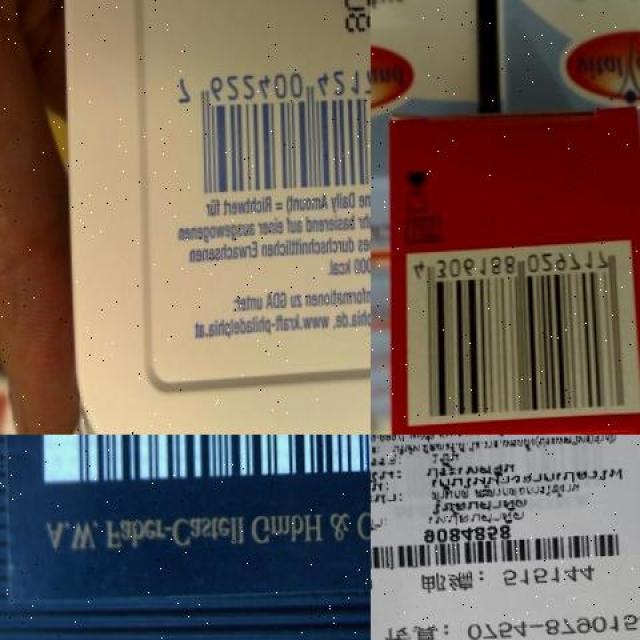Barcode: (401, 247, 639, 429), (161, 49, 371, 203), (25, 434, 371, 490), (370, 520, 634, 580)
